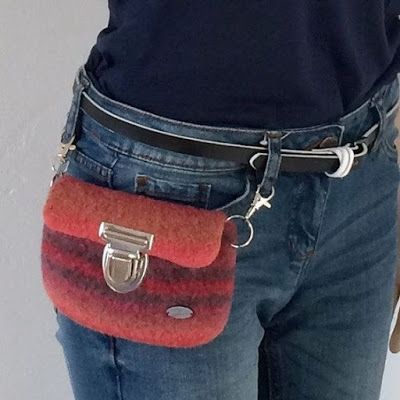cuero: (70, 81, 400, 174)
